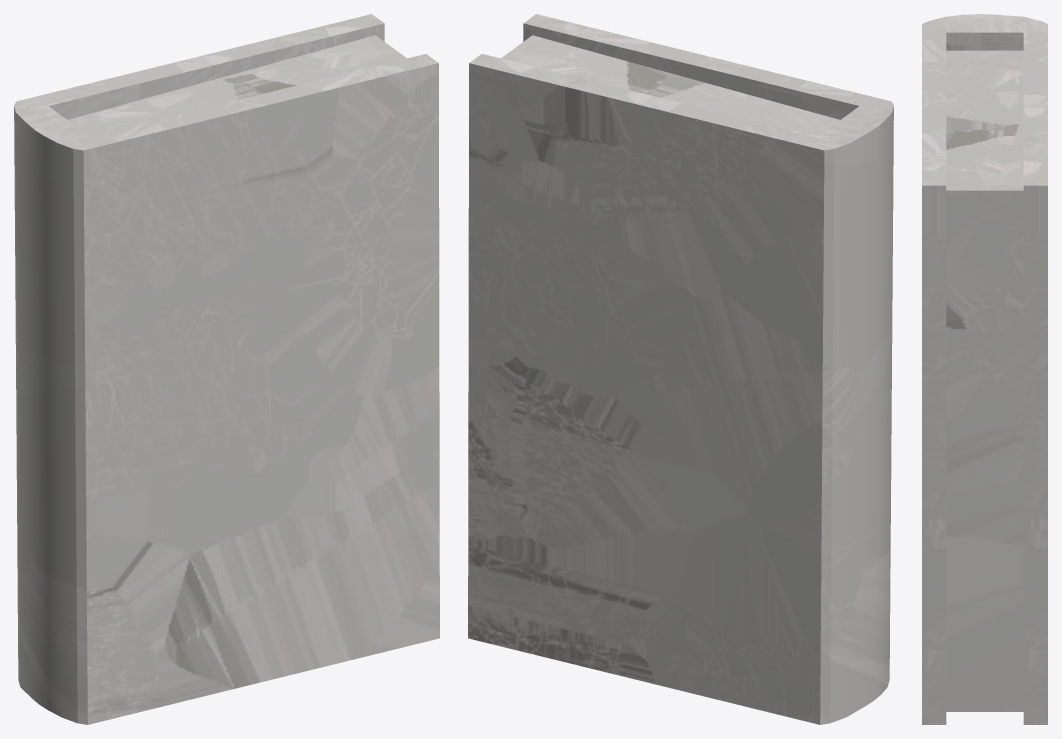
Rendered from 1book.fbx.
3 views of the same model, side by side, from view 1: azimuth 30°, elevation 25°; view 2: azimuth 150°, elevation 25°; view 3: azimuth 270°, elevation 25° (orthographic). The views are drawn at different scales.
Parts seen in each view (by area): view 1: defaultMaterial.010; view 2: defaultMaterial.010; view 3: defaultMaterial.010.
Part boxes in pixels (x1,y1,x2,y2): defaultMaterial.010: [14, 14, 439, 724]; defaultMaterial.010: [468, 14, 893, 724]; defaultMaterial.010: [922, 14, 1047, 724].
Bounding box in the file's own units: 30.75 × 45.36 × 9.55.
